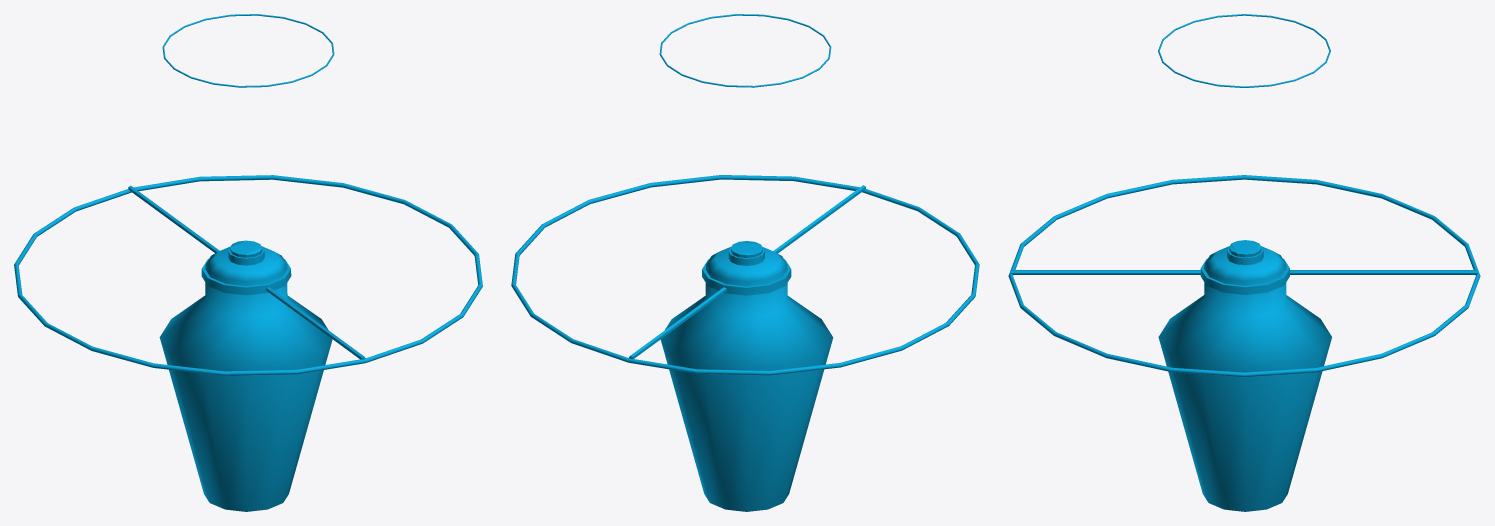
Rendered from Lamp_03.fbx.
3 renders of one model, left to right at view 1: azimuth 30°, elevation 25°; view 2: azimuth 150°, elevation 25°; view 3: azimuth 270°, elevation 25°, orthographic.
Visible parts, largest first — view 1: Lamp_03; view 2: Lamp_03; view 3: Lamp_03.
Boxes of the visible parts, bbox=[...] form: Lamp_03: bbox=[14, 14, 482, 511]; Lamp_03: bbox=[511, 14, 979, 511]; Lamp_03: bbox=[1008, 14, 1480, 511].
Bounding box in the file's own units: 53.22 × 55.29 × 53.22.
